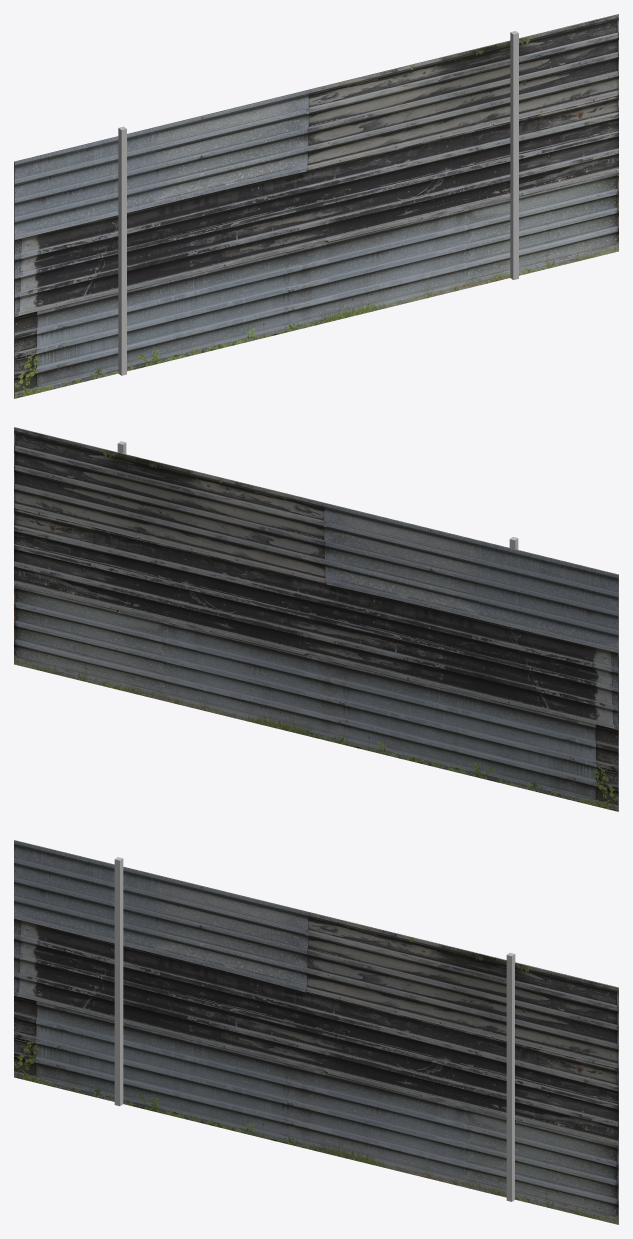
File: MetallFence05.FBX
3 views of the same model, one above another, from view 1: azimuth 30°, elevation 25°; view 2: azimuth 150°, elevation 25°; view 3: azimuth 330°, elevation 25° (orthographic).
Parts seen in each view (by area): view 1: MetallFence05, MetalFenceMetal02a; view 2: MetallFence05; view 3: MetallFence05, MetalFenceMetal02a.
Part boxes in pixels (left/top/right/bottom): MetallFence05: left=14, top=14, right=618, bottom=398; MetalFenceMetal02a: left=118, top=31, right=518, bottom=375; MetallFence05: left=14, top=427, right=618, bottom=811; MetallFence05: left=14, top=840, right=618, bottom=1224; MetalFenceMetal02a: left=114, top=857, right=515, bottom=1201.
Bounding box in the file's own units: 590 × 229 × 6.43.
